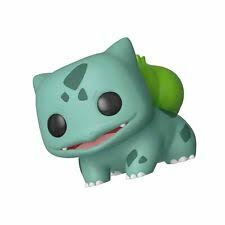bulbasaur: (20, 34, 206, 191)
